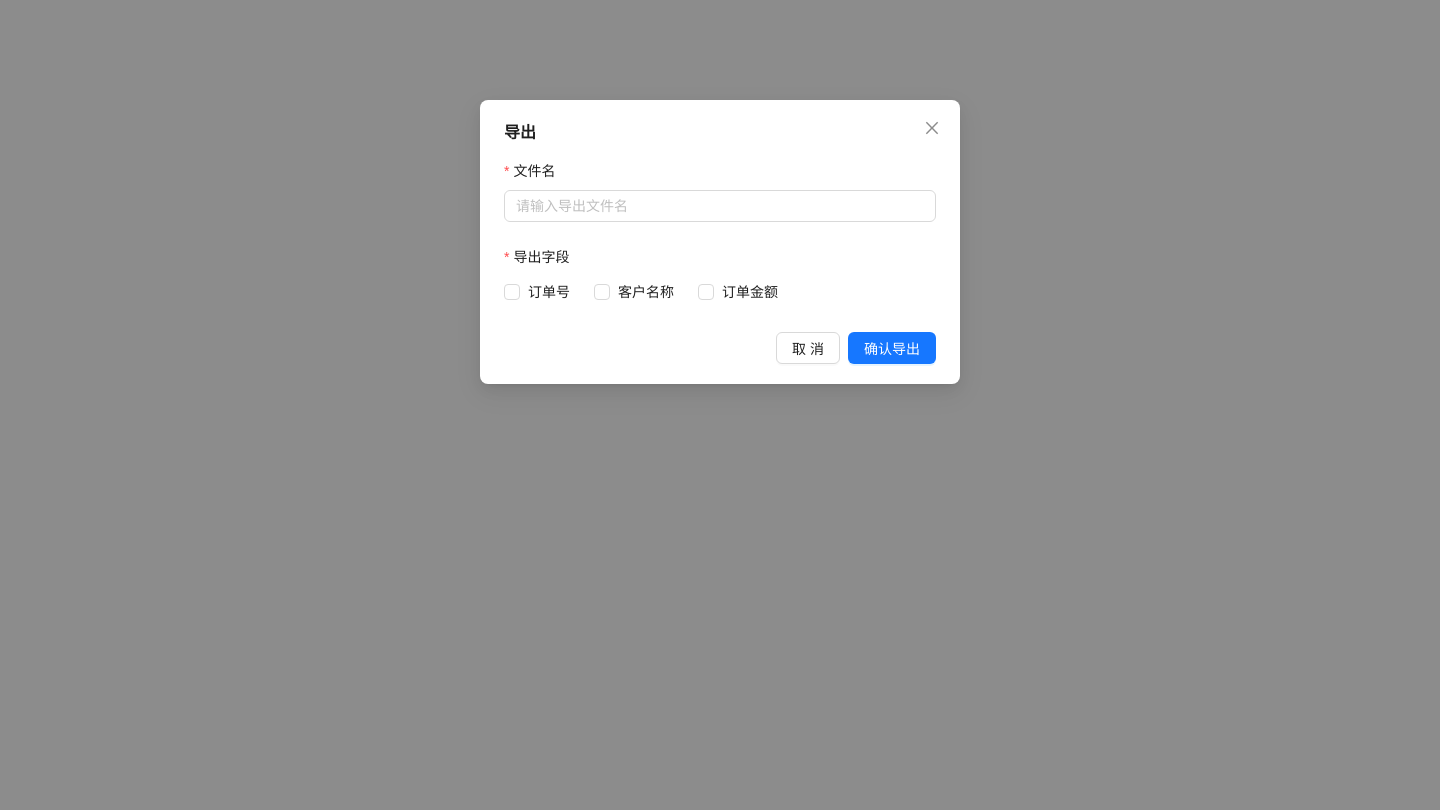
Test: ExportModal › 未填文件名时提交显示校验提示
The image size is (1440, 810).
Click the button "确认导出": click(892, 348) x1=848 y1=332 x2=936 y2=364
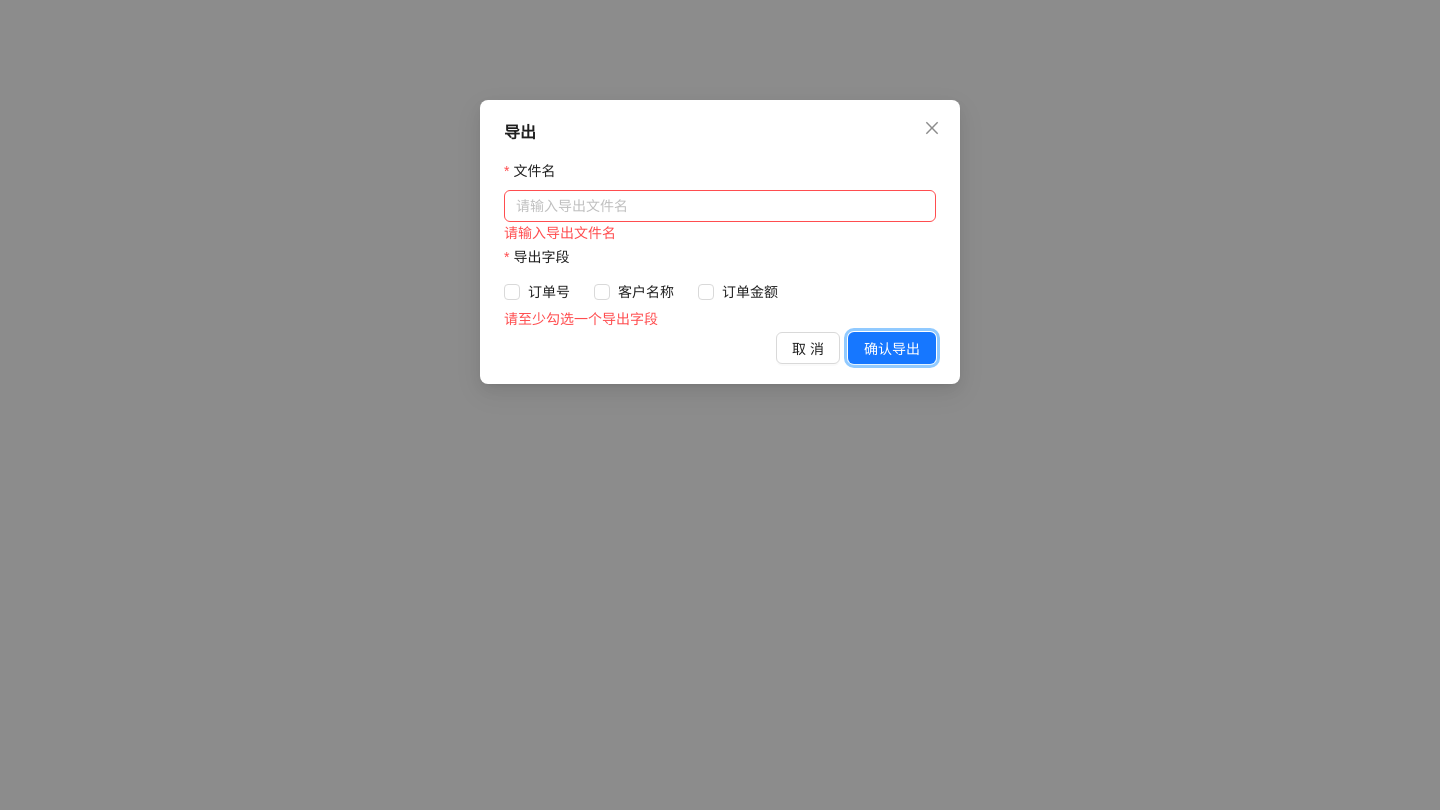
Now the text "请输入导出文件名" is shown, box x1=504 y1=224 x2=616 y2=241
